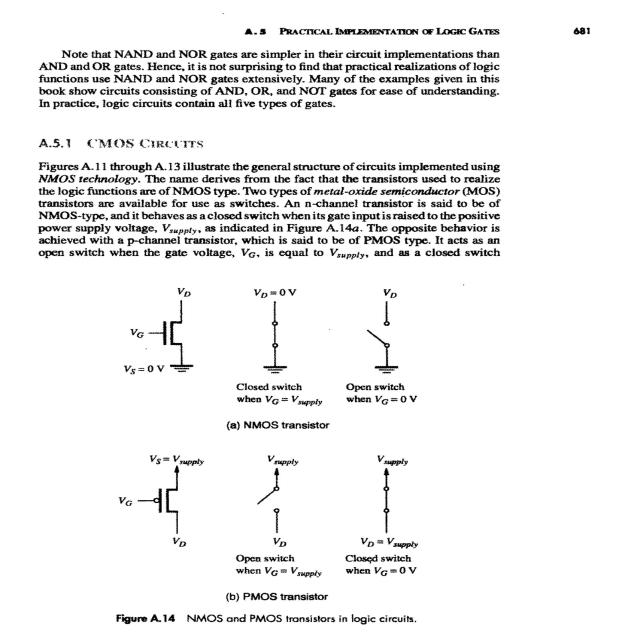diagram: (49, 274, 536, 634)
